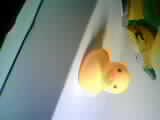duck: (77, 38, 123, 103)
